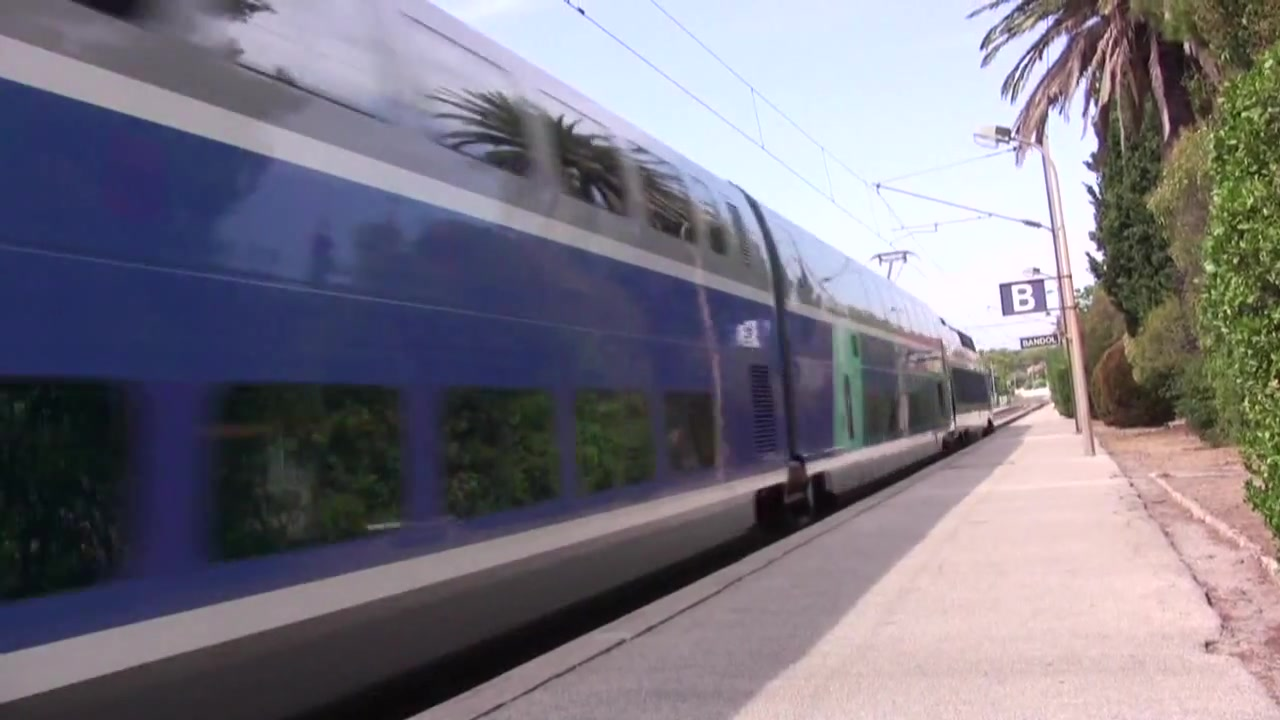train: (1, 1, 999, 720)
